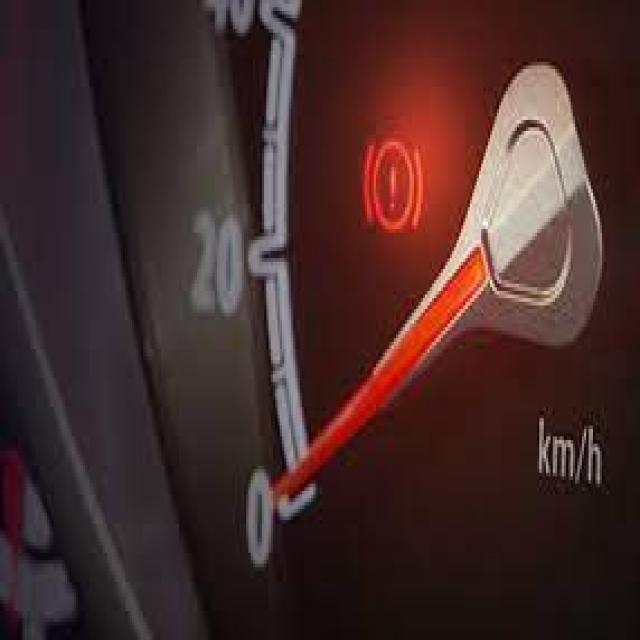kontrolka: (348, 122, 438, 248)
